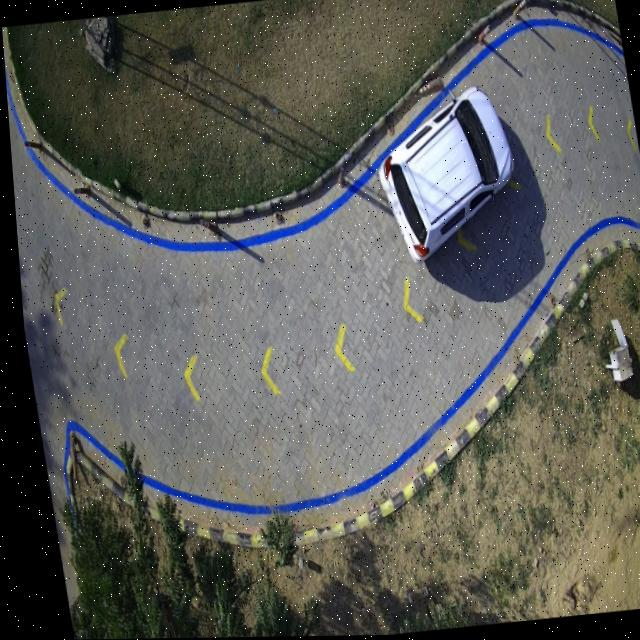car: (375, 88, 512, 264)
